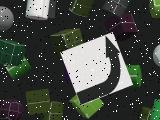Left: (60, 32, 133, 106)
